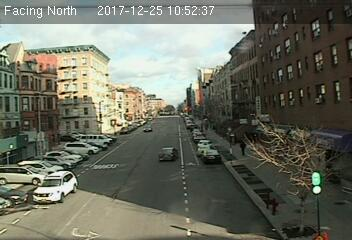car: (32, 169, 76, 203), (159, 145, 180, 162), (200, 149, 220, 162)
